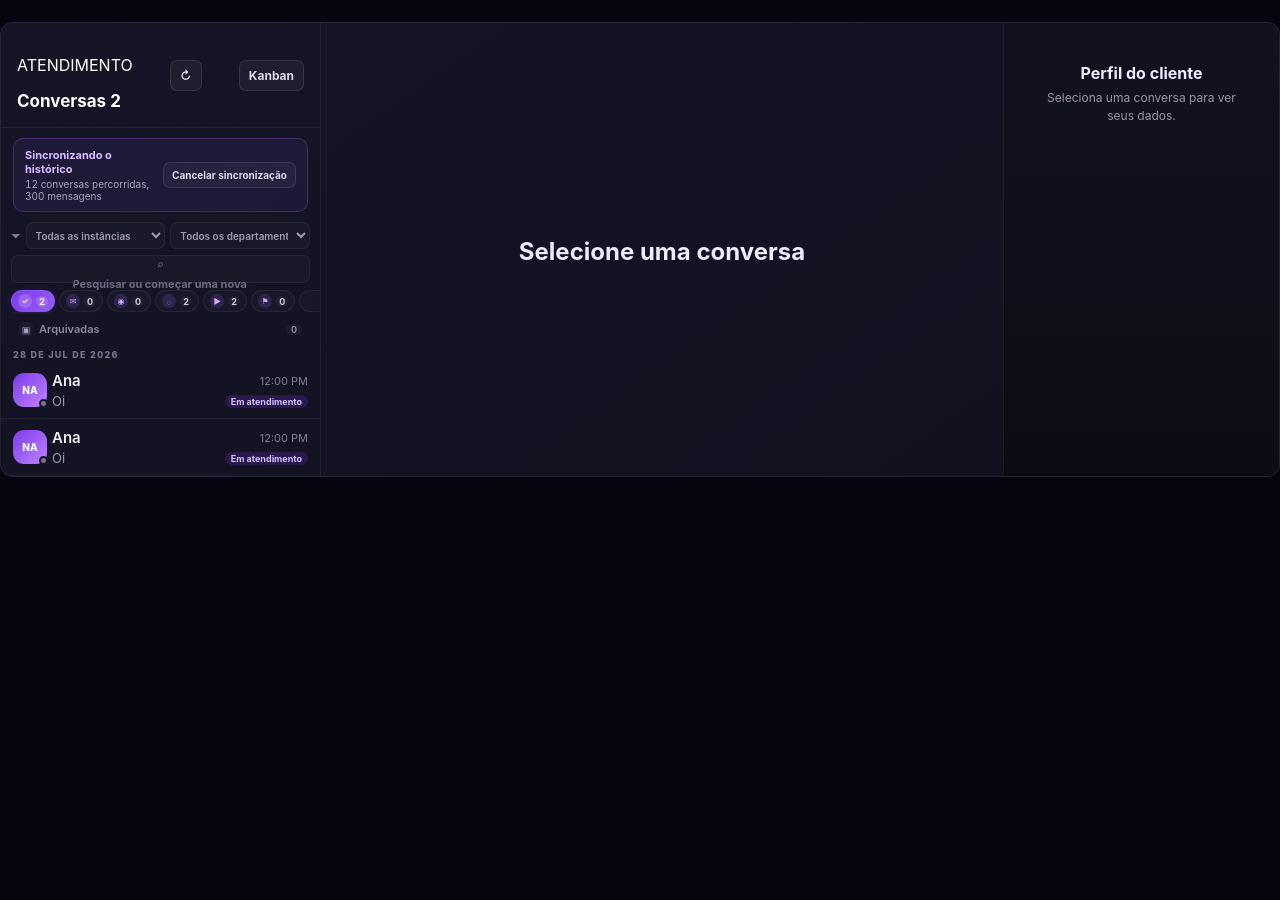
falha ao carregar as mensagens de uma conversa › com a sincronização rodando, diz por que aconteceu sem falar de peça interna
Step 1. Click the 1st button "NA Ana 12:00 PM Oi Em atendimento" → (30, 390), box [1,362,320,419]
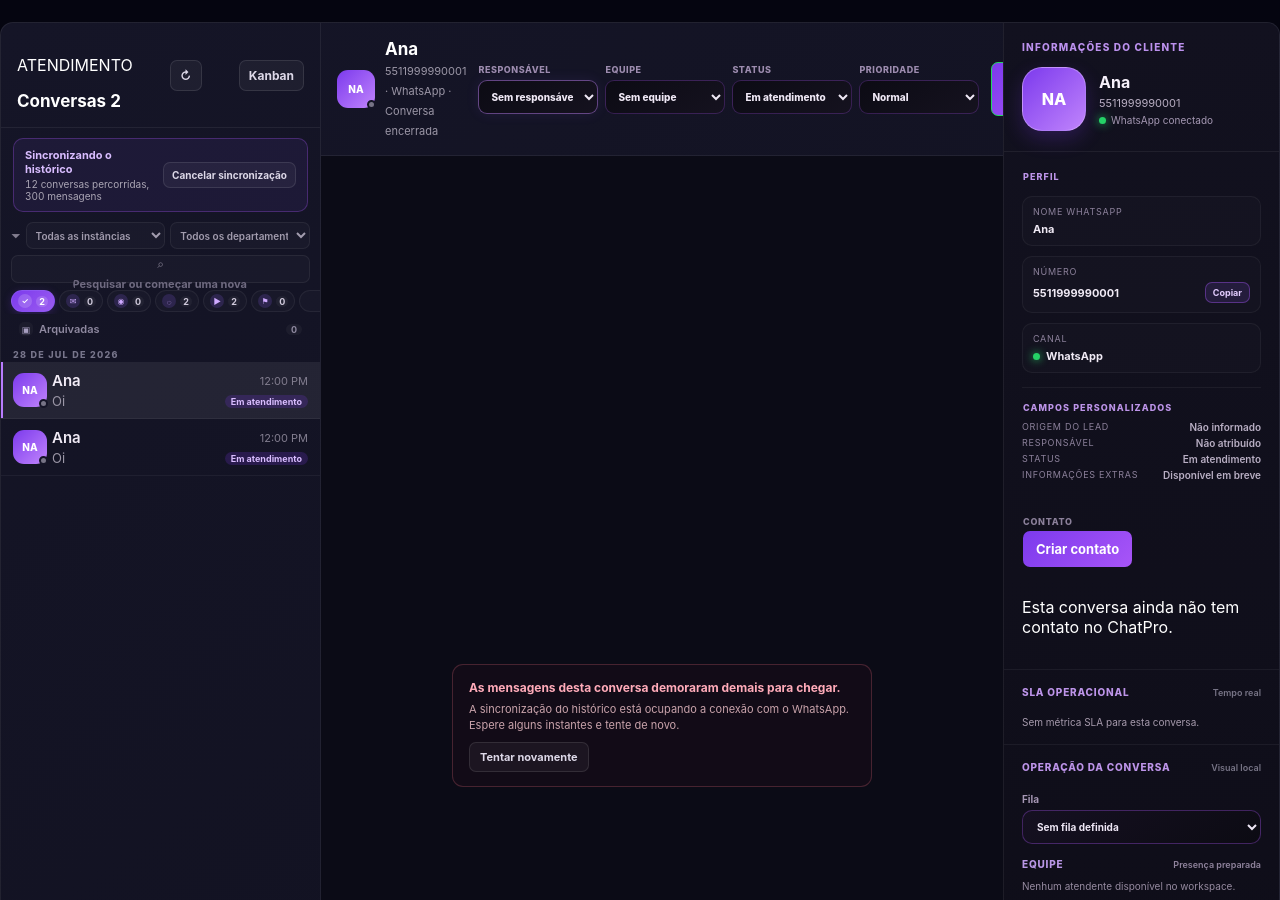
Now the text "A sincronização do histórico está ocupando a conexão com o WhatsApp. Espere alguns instantes e tente de novo." is shown, box [469,702,849,732]
